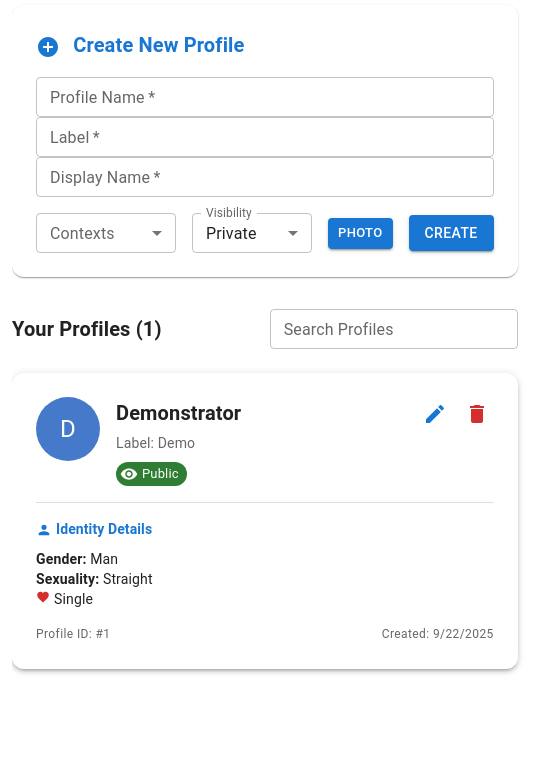
Test: Profiles UI › can delete a profile
The image size is (538, 780).
Step 1. Click the button named "Delete profile" → (477, 414), box [460,397,494,431]
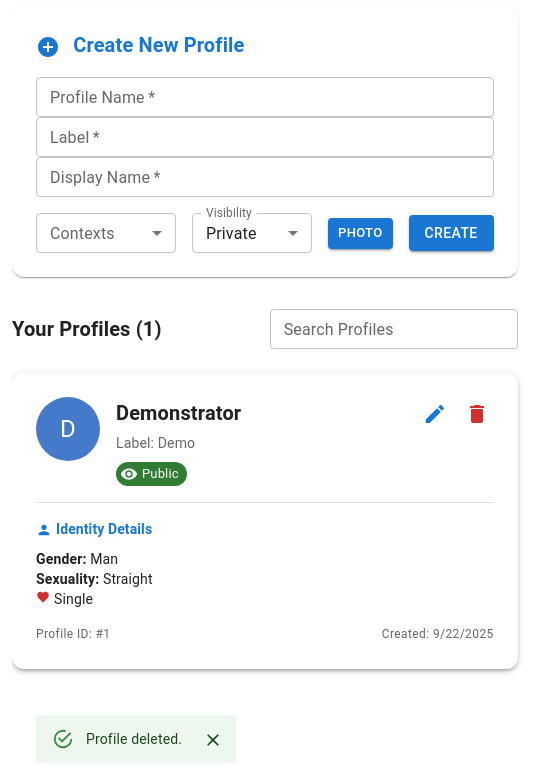
expect the text "Profile deleted." is shown: met, box [86,731,182,747]
